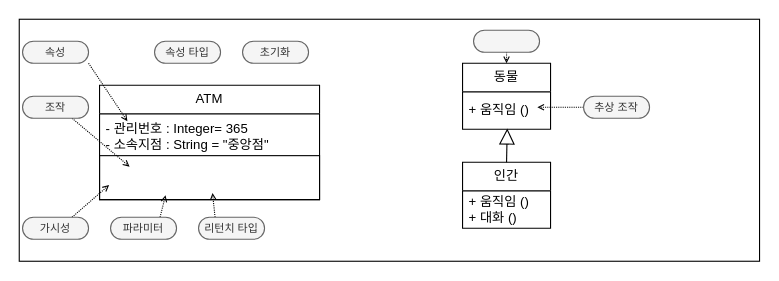
This 779x281 diagram has some shape labels left out. Here are the shapes that lost their labels. From the top down, the centre of each, then its label:
At [506,40]: "추상 클래스".
At [209,177]: "+ 출금 (패스워드, 금액) : Integer + 입금 (금액) : String".
